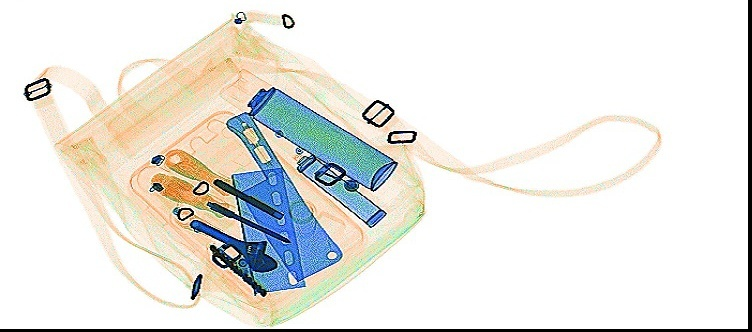knife: (224, 110, 343, 281)
pressure: (218, 66, 397, 192)
zippooil: (294, 151, 387, 227)
